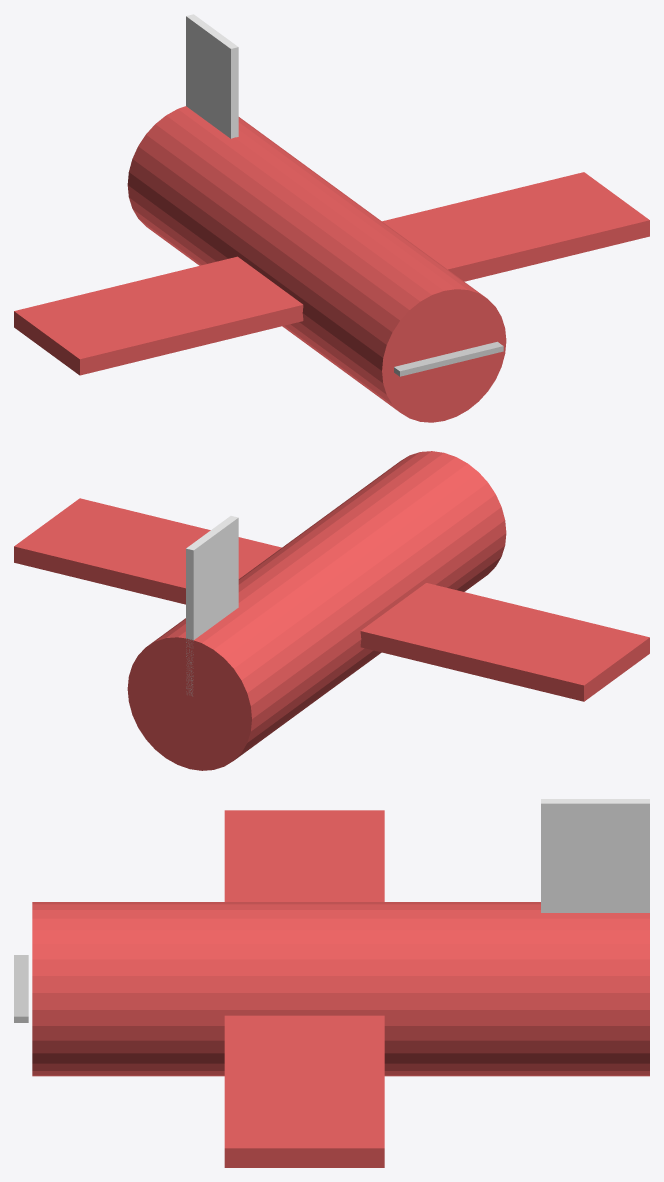
The model's file is toy_airplane.glb.
3 views of the same model, one above another, from view 1: azimuth 30°, elevation 25°; view 2: azimuth 150°, elevation 25°; view 3: azimuth 270°, elevation 25° (orthographic). The views are drawn at different scales.
Visible parts, largest first — view 1: Cylinder, Cube, Cube.001, Cube.002; view 2: Cylinder, Cube, Cube.001; view 3: Cylinder, Cube, Cube.001, Cube.002.
Part boxes in pixels (x1=…): Cylinder: x1=127, y1=106, x2=506, y2=422; Cube: x1=14, y1=172, x2=649, y2=375; Cube.001: x1=186, y1=14, x2=238, y2=138; Cube.002: x1=394, y1=341, x2=503, y2=376; Cylinder: x1=127, y1=451, x2=506, y2=770; Cube: x1=14, y1=498, x2=649, y2=701; Cube.001: x1=186, y1=516, x2=238, y2=696; Cylinder: x1=32, y1=902, x2=649, y2=1076; Cube: x1=224, y1=810, x2=384, y2=1167; Cube.001: x1=541, y1=799, x2=649, y2=912; Cube.002: x1=14, y1=955, x2=28, y2=1022.
Bounding box in the file's own units: 1.1 × 0.405 × 0.875.
